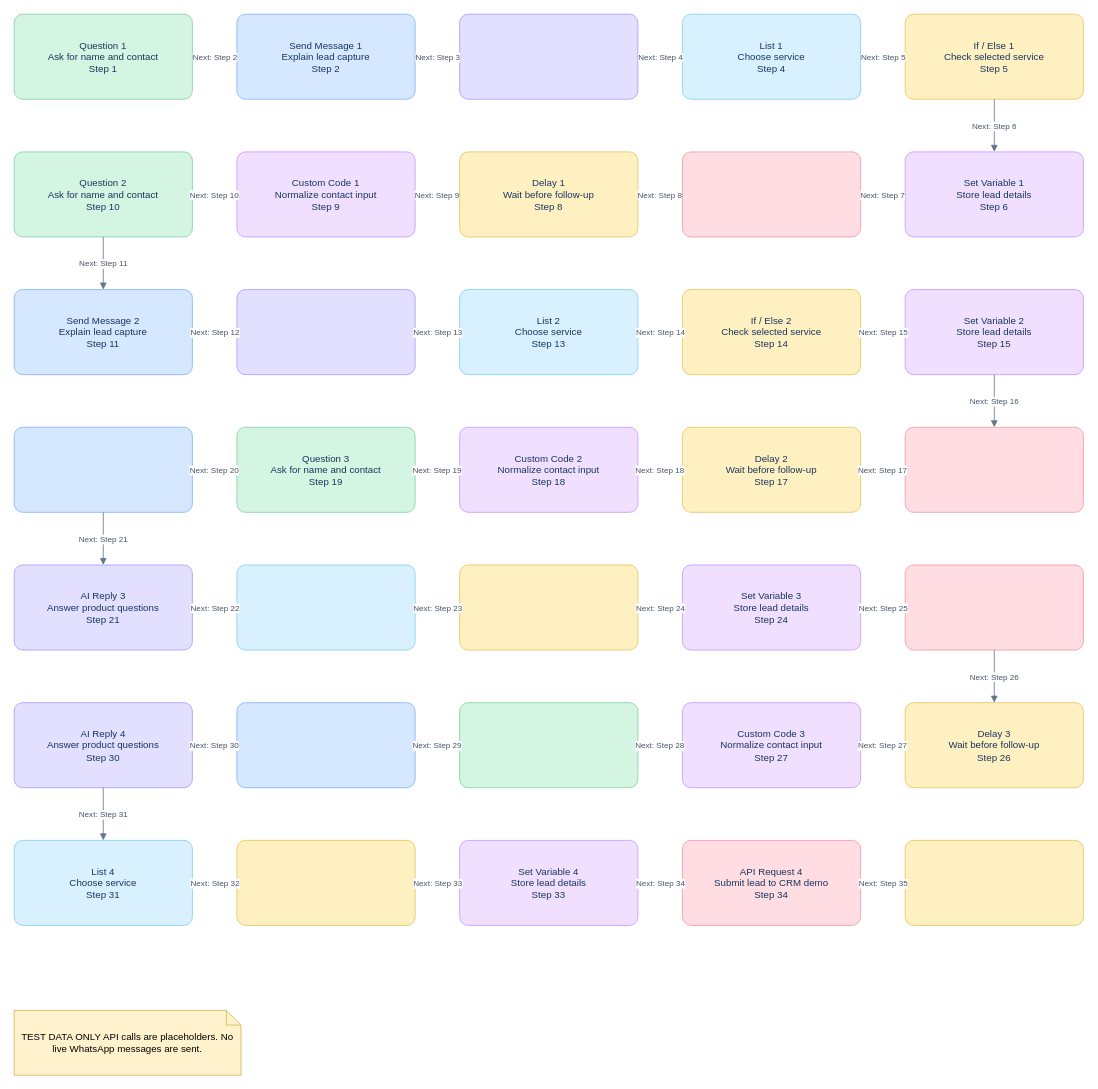
This 1098x1089 diagram has some shape labels left out. The shapes that lost their labels are listed below. From the top down, each one's centre as x and y in pixels, then its label:
At (x=548, y=56): "AI Reply 1 Answer product questions Step 3".
At (x=771, y=194): "API Request 1 Submit lead to CRM demo Step 7".
At (x=325, y=332): "AI Reply 2 Answer product questions Step 12".
At (x=102, y=469): "Send Message 3 Explain lead capture Step 20".
At (x=993, y=469): "API Request 2 Submit lead to CRM demo Step 16".
At (x=325, y=607): "List 3 Choose service Step 22".
At (x=548, y=607): "If / Else 3 Check selected service Step 23".
At (x=993, y=607): "API Request 3 Submit lead to CRM demo Step 25".
At (x=325, y=745): "Send Message 4 Explain lead capture Step 29".
At (x=548, y=745): "Question 4 Ask for name and contact Step 28".
At (x=325, y=882): "If / Else 4 Check selected service Step 32".
At (x=993, y=882): "Delay 4 Wait before follow-up Step 35".
